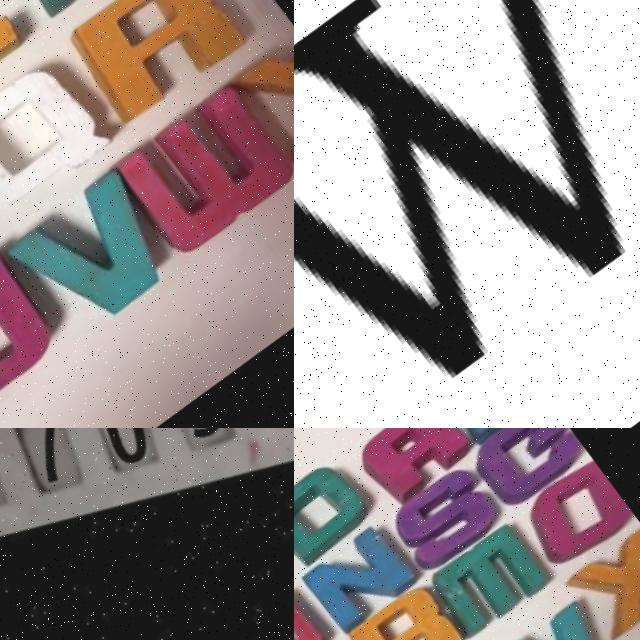0: (55, 428, 191, 490)
5: (132, 428, 264, 462)
7: (0, 428, 108, 505), (0, 428, 31, 528)
A: (350, 428, 478, 505)
D: (294, 440, 382, 569)
G: (465, 428, 591, 505)
M: (426, 502, 561, 637)
N: (298, 510, 422, 634)
O: (523, 444, 639, 562)
Q: (0, 34, 129, 226)
R: (60, 0, 254, 124), (345, 569, 468, 640)
S: (390, 449, 509, 569)
U: (0, 229, 76, 425)
V: (10, 154, 194, 341), (495, 583, 626, 640)
W: (294, 0, 640, 428), (111, 55, 294, 255)
X: (565, 509, 640, 634)
